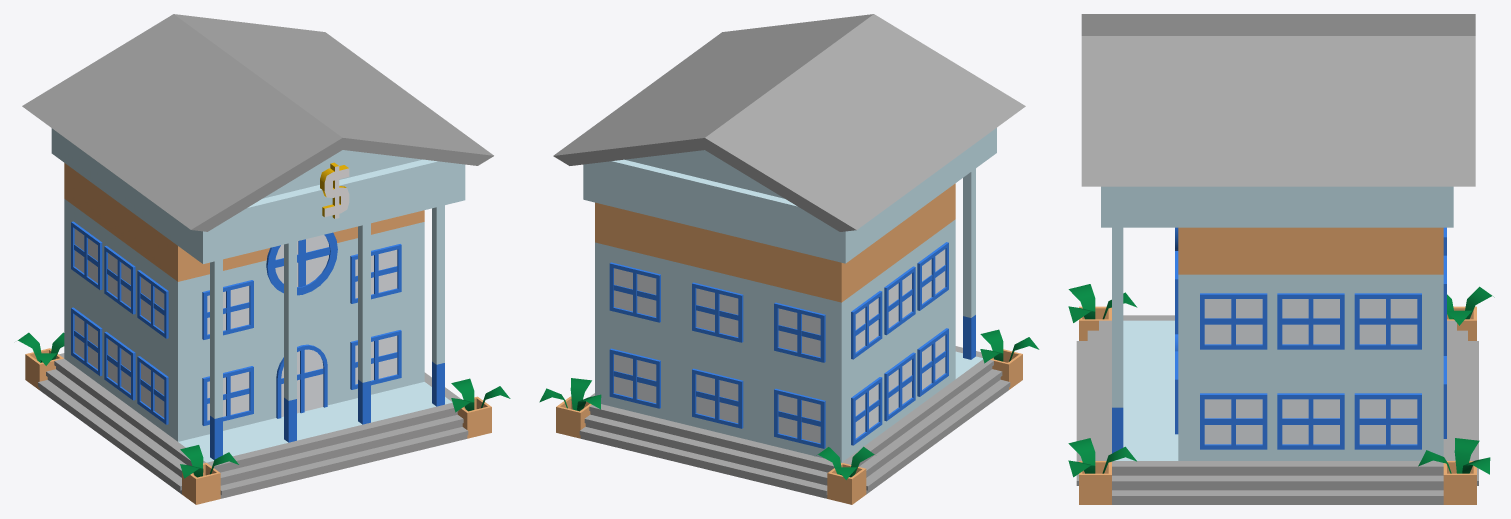
The model's file is M1_Bank.fbx.
3 views of the same model, side by side, from view 1: azimuth 30°, elevation 25°; view 2: azimuth 150°, elevation 25°; view 3: azimuth 270°, elevation 25° (orthographic). The views are drawn at different scales.
Parts seen in each view (by area): view 1: roof, block (×2), roof_flat (×4), window_wide (×10), stairs_center (×2), columns_large (×3), window_round_detail, door_rounded_wide, plant_large (×3), S; view 2: roof, block, window_wide (×12), roof_flat (×4), stairs_center (×2), columns_large, plant_large (×3); view 3: roof, block (×2), window_wide (×6), stairs_center (×3), roof_flat (×4), plant_large (×4), columns_large.
Part boxes in pixels (x1,y1,x2,y2): roof: (22, 14, 493, 231); block (×2): (64, 163, 452, 462); roof_flat (×4): (25, 128, 491, 504); window_wide (×10): (71, 221, 401, 425); stairs_center (×2): (38, 358, 468, 498); columns_large (×3): (210, 205, 444, 459); window_round_detail: (266, 232, 337, 295); door_rounded_wide: (276, 344, 327, 418); plant_large (×3): (17, 332, 510, 478); S: (320, 165, 349, 217); roof: (553, 14, 1025, 231); block: (595, 183, 955, 462); window_wide (×12): (609, 242, 948, 448); roof_flat (×4): (556, 128, 1022, 504); stairs_center (×2): (579, 359, 1010, 498); columns_large: (963, 168, 975, 359); plant_large (×3): (539, 329, 1039, 479); roof: (1081, 14, 1475, 186); block (×2): (1114, 227, 1443, 460); window_wide (×6): (1200, 293, 1421, 449); stairs_center (×3): (1076, 320, 1478, 504); roof_flat (×4): (1079, 186, 1476, 504); plant_large (×4): (1068, 284, 1494, 477); columns_large: (1112, 227, 1123, 453).
Size of the model in its own units: 39.72 by 38.41 by 38.75.
